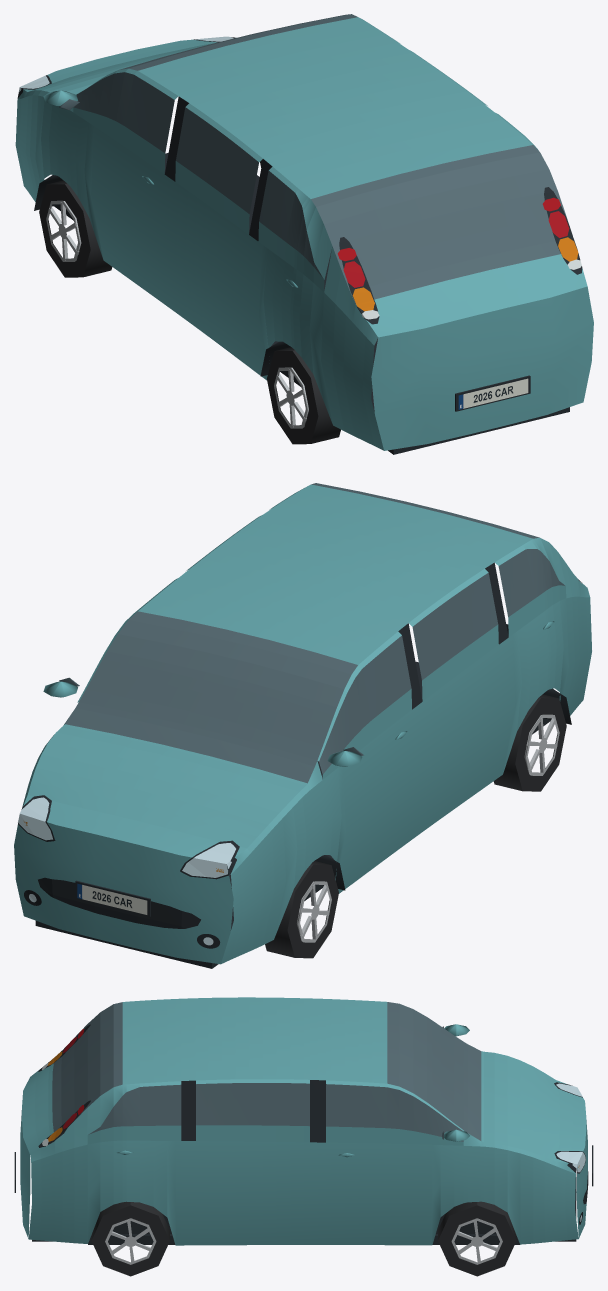
The model's file is Entrega_13_LOD2.glb.
The picture shows the model from 3 angles, top to bottom: view 1: azimuth 30°, elevation 25°; view 2: azimuth 150°, elevation 25°; view 3: azimuth 270°, elevation 25°; orthographic projection. The views are drawn at different scales.
Visible parts, largest first — view 1: Body, Glass, Wheel_RL, Wheel_FL, Plates, BrakeLights; view 2: Body, Glass, Wheel_FL, Wheel_RL, Headlights, Plates; view 3: Body, Glass, Wheel_FR, Wheel_RR, Headlights.
Boxes of the visible parts, <box> form: Body: <box>15,17,593,454</box>; Glass: <box>59,14,567,304</box>; Wheel_RL: <box>267,347,340,444</box>; Wheel_FL: <box>39,180,112,277</box>; Plates: <box>458,378,528,409</box>; BrakeLights: <box>343,211,569,287</box>; Body: <box>14,484,591,968</box>; Glass: <box>59,483,564,783</box>; Wheel_FL: <box>265,861,338,958</box>; Wheel_RL: <box>493,694,566,791</box>; Headlights: <box>18,797,235,945</box>; Plates: <box>77,883,147,914</box>; Body: <box>14,997,593,1245</box>; Glass: <box>52,1002,481,1141</box>; Wheel_FR: <box>438,1201,516,1276</box>; Wheel_RR: <box>91,1201,169,1276</box>; Headlights: <box>556,1083,585,1221</box>.
Bounding box in the file's own units: 2.25 × 1.75 × 4.73.
Materials: 10 (1 with a texture image).
